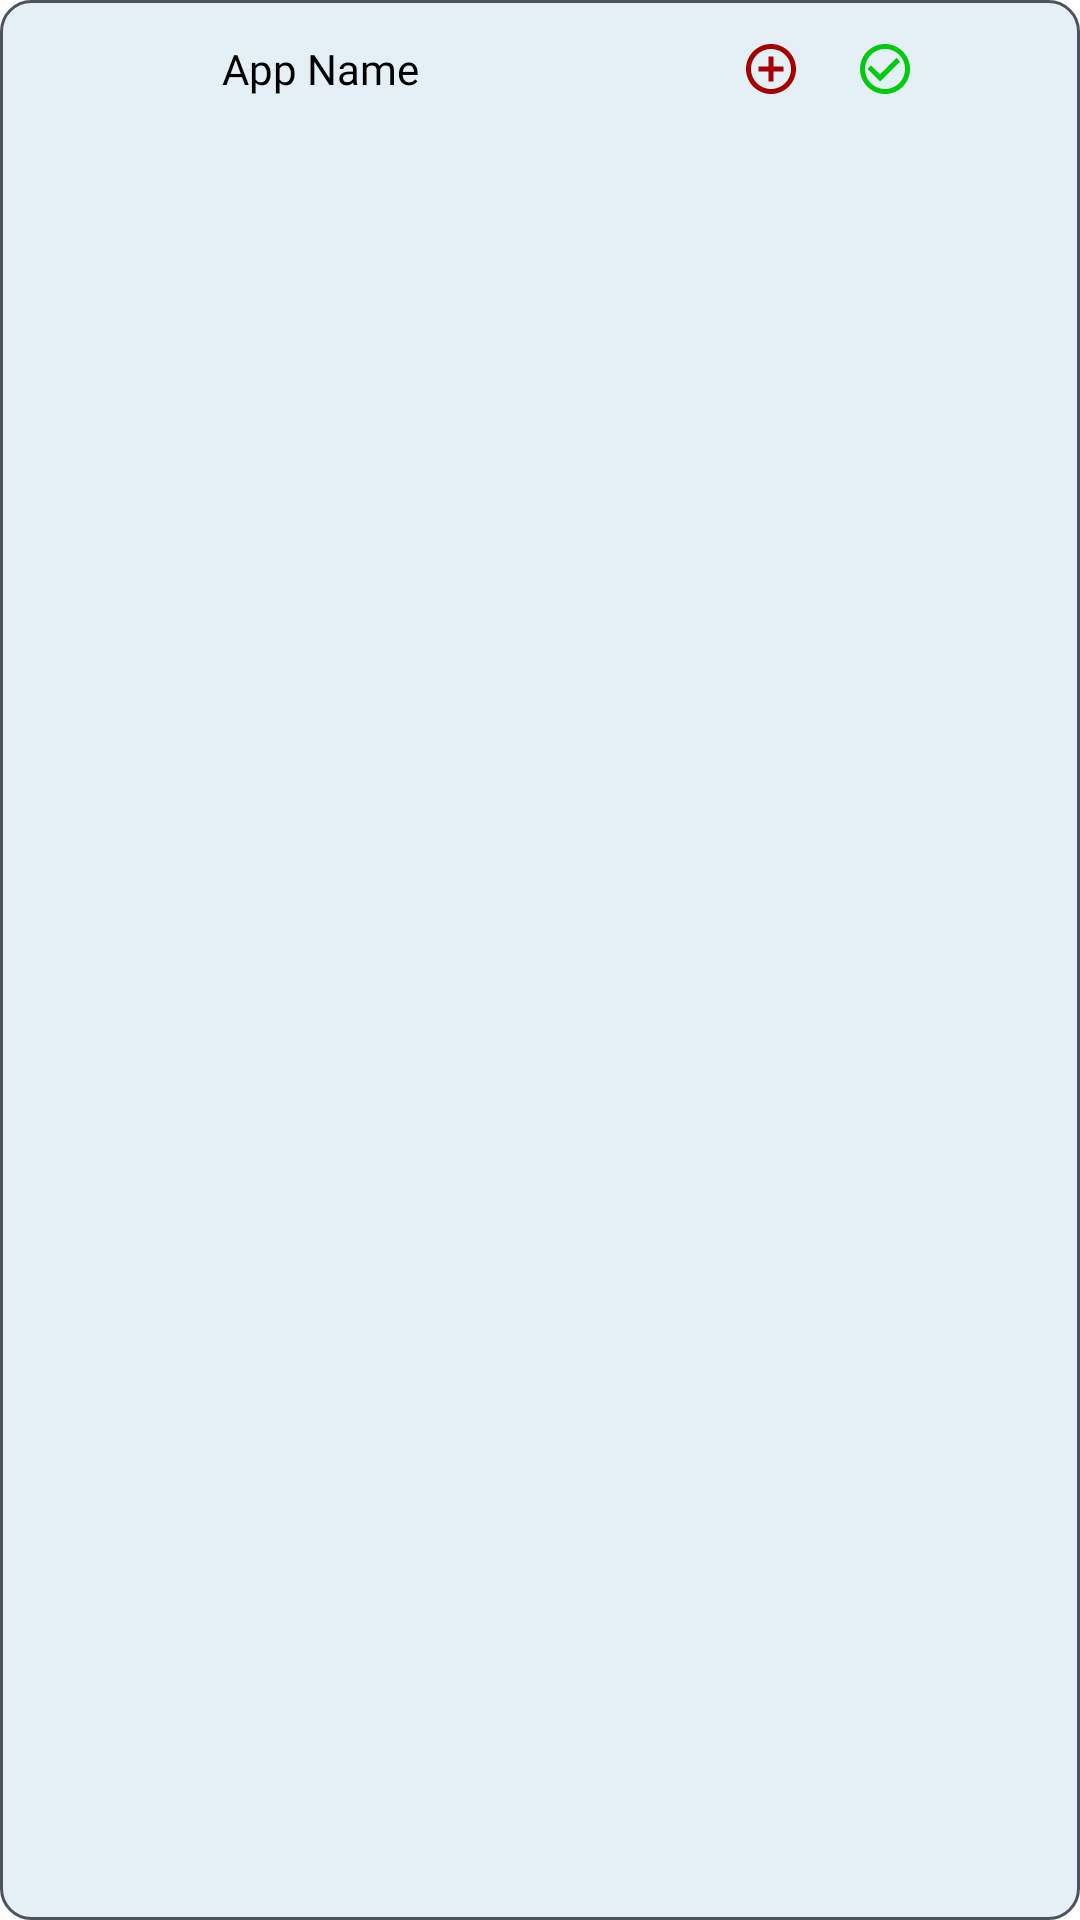

Screen size 1080 x 1920. Icon name, then its box in pixels as (x1, y1, x2, y2):
add: (746, 44, 796, 94)
check: (860, 44, 910, 94)
